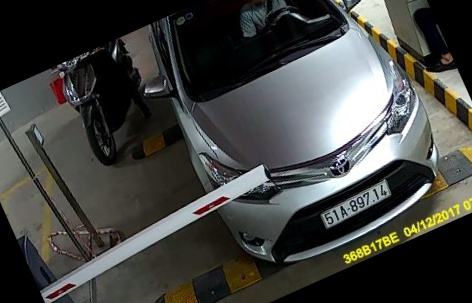plate: (319, 172, 388, 238)
